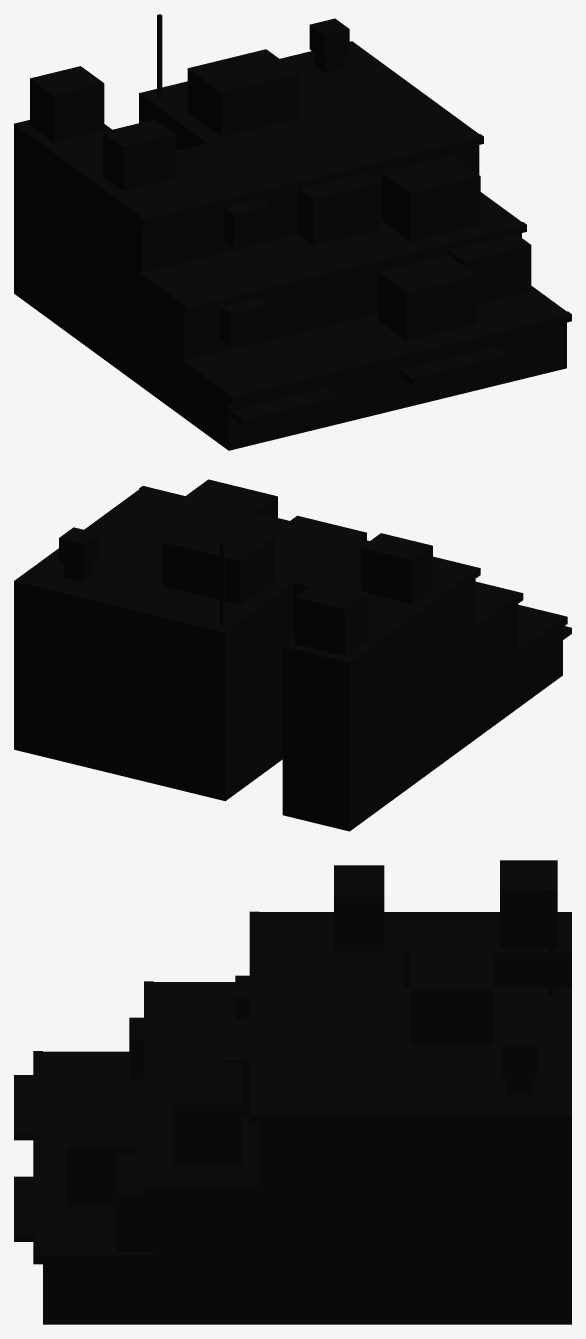
The model's file is far_wedge-C5dYaxyA.glb.
The picture shows the model from 3 angles, top to bottom: view 1: azimuth 30°, elevation 25°; view 2: azimuth 150°, elevation 25°; view 3: azimuth 270°, elevation 25°; orthographic projection. The views are drawn at different scales.
Visible parts, largest first — view 1: farBaked; view 2: farBaked; view 3: farBaked.
Boxes of the visible parts, bbox=[...] form: farBaked: bbox=[14, 14, 571, 450]; farBaked: bbox=[14, 479, 571, 831]; farBaked: bbox=[14, 860, 571, 1324].
Size of the model in its own units: 20.12 by 14.2 by 23.2.
Materials: 1 (1 with a texture image).
